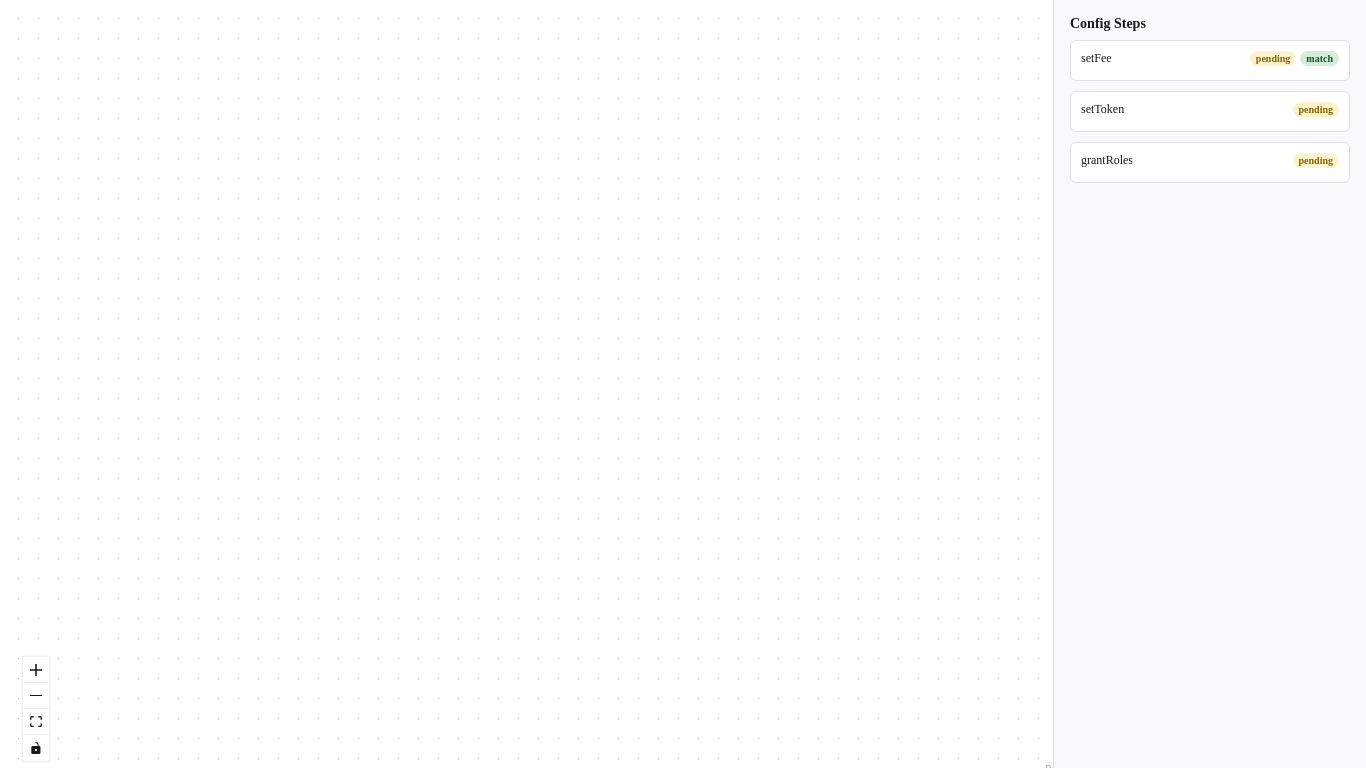
Scenario: Inspector — drift detail panel › a detail panel is offered for a 'match' step too, but with no Re-apply button
Click the button with test id "config-step-setFee-drift". click: click(1320, 58)
box: [1300,51,1339,66]
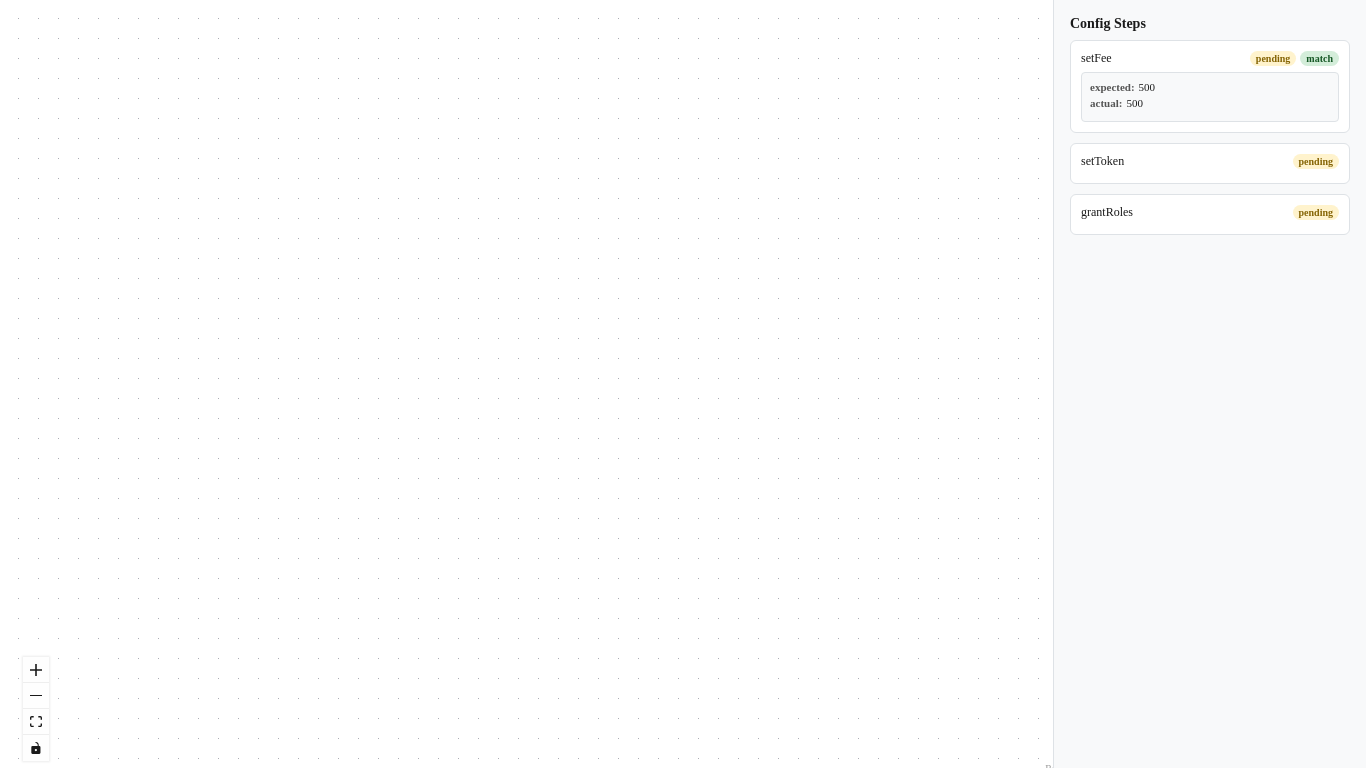
Expected: the element with test id "config-step-setFee-drift-detail" is shown, [1081,72,1339,122]
